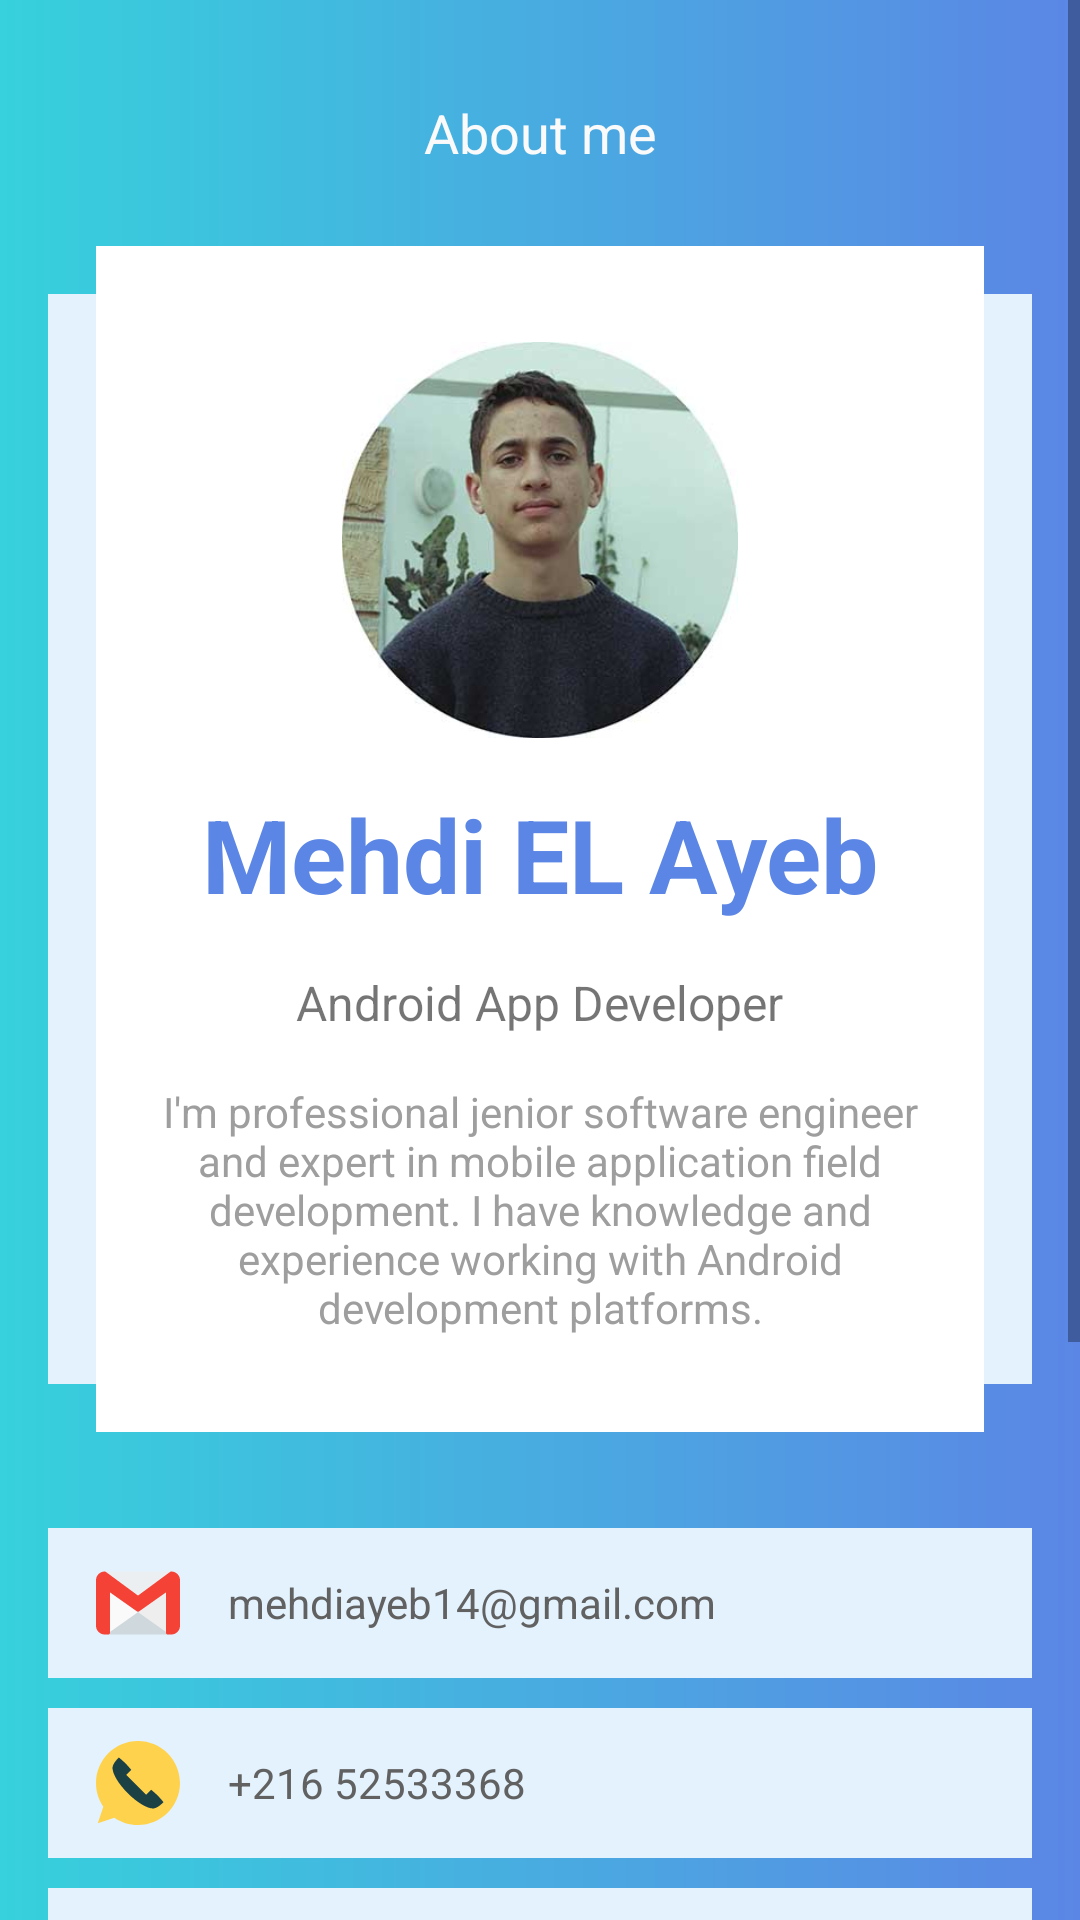

Point at icon controls on the screen. Image size 1080px×1920px, points as (x,y).
mobile phone: (138,1783)
